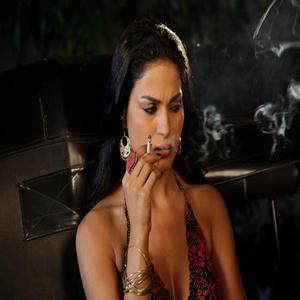cigarette: (146, 133, 151, 158)
